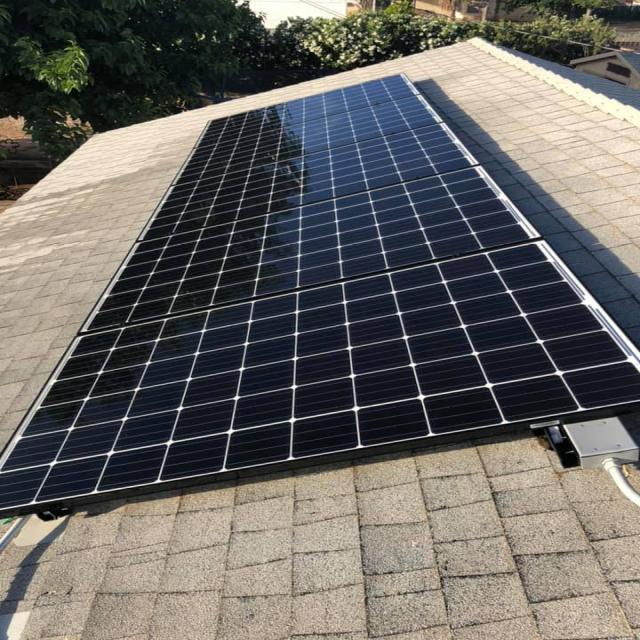clean-solar-panel: (3, 75, 637, 510)
